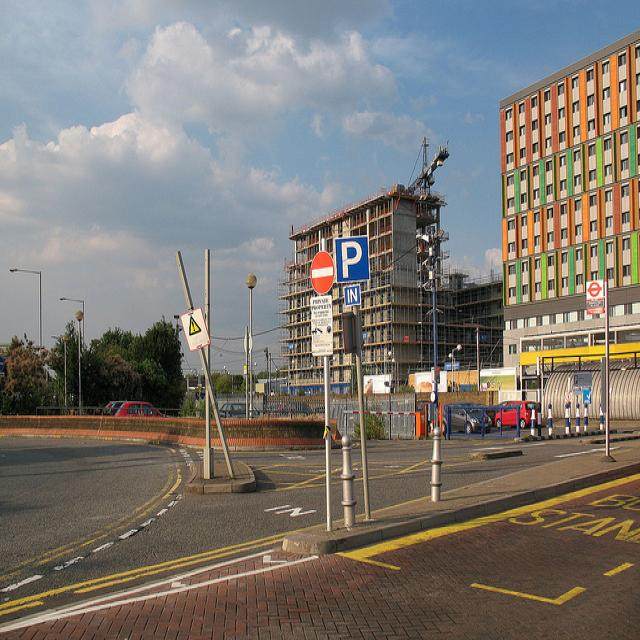Vehicle: (99, 400, 176, 421), (443, 403, 491, 435), (495, 402, 538, 429), (219, 403, 260, 419), (486, 400, 508, 424)
